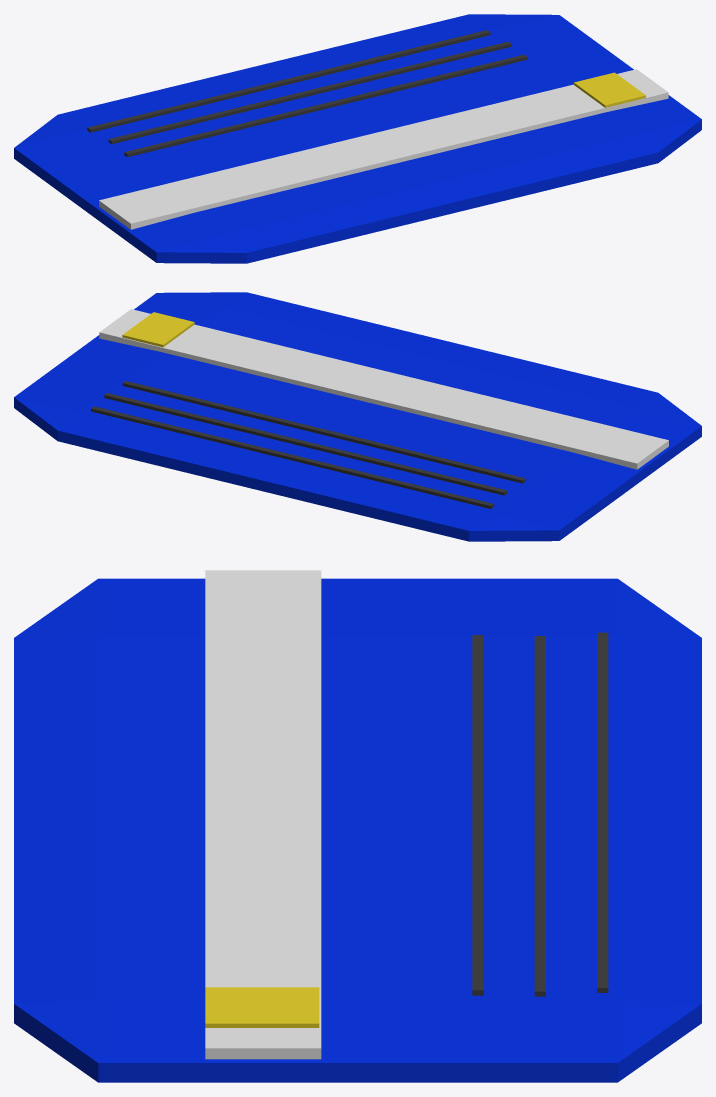
Rendered from BlueKeycard.fbx.
3 views of the same model, one above another, from view 1: azimuth 30°, elevation 25°; view 2: azimuth 150°, elevation 25°; view 3: azimuth 270°, elevation 25° (orthographic). The views are drawn at different scales.
Visible parts, largest first — view 1: Blue Keycard, WhiteStripe, Cube.001, Cube.002, Cube.003, Chip; view 2: Blue Keycard, WhiteStripe, Cube.002, Cube.001, Cube.003, Chip; view 3: Blue Keycard, WhiteStripe, Chip, Cube.001, Cube.003, Cube.002.
Part boxes in pixels (x1=…): Blue Keycard: x1=14, y1=14, x2=701, y2=263; WhiteStripe: x1=99, y1=69, x2=668, y2=229; Cube.001: x1=108, y1=41, x2=511, y2=144; Cube.002: x1=87, y1=30, x2=490, y2=132; Cube.003: x1=124, y1=54, x2=527, y2=157; Chip: x1=574, y1=72, x2=645, y2=107; Blue Keycard: x1=14, y1=292, x2=701, y2=541; WhiteStripe: x1=99, y1=309, x2=668, y2=469; Cube.002: x1=91, y1=406, x2=494, y2=508; Cube.001: x1=104, y1=393, x2=507, y2=495; Cube.003: x1=122, y1=381, x2=525, y2=483; Chip: x1=122, y1=312, x2=194, y2=347; Blue Keycard: x1=14, y1=578, x2=701, y2=1082; WhiteStripe: x1=205, y1=570, x2=321, y2=1059; Chip: x1=205, y1=987, x2=319, y2=1027; Cube.001: x1=534, y1=636, x2=545, y2=996; Cube.003: x1=472, y1=635, x2=483, y2=995; Cube.002: x1=597, y1=632, x2=608, y2=992.
Size of the model in its own units: 400 by 14.94 by 240.
